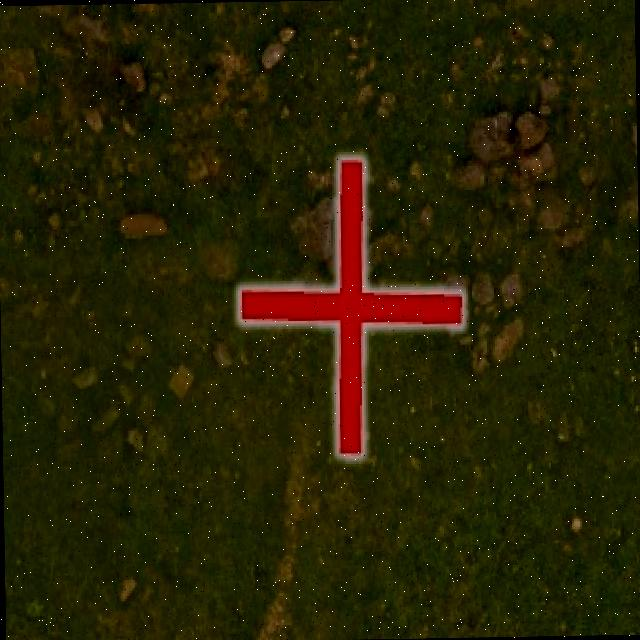x_marker: (236, 156, 464, 456)
